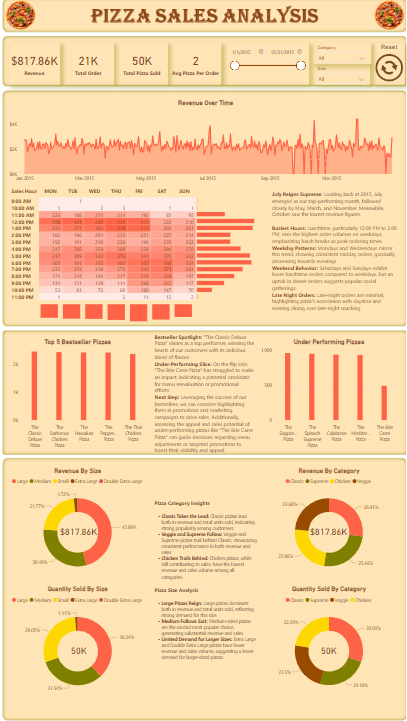

This screenshot's page, from the dashboard's own definition file:
{"tool":"powerbi","page":{"name":"Pizza Sales Analysis","canvas":[1080,1920],"ordinal":0},"visuals":[{"type":"pivotTable","fields":{"Values":["Count(pizza_place_sales.order_id)"],"Rows":["pizza_place_sales.sale_hour"],"Columns":["pizza_place_sales.day_name"]},"box":[21,490,505,313],"z":0},{"type":"areaChart","title":"Revenue Over Time","fields":{"Category":["pizza_place_sales.date.Variation.Date Hierarchy.Year","pizza_place_sales.date.Variation.Date Hierarchy.Quarter","pizza_place_sales.date.Variation.Date Hierarchy.Month","pizza_place_sales.date.Variation.Date Hierarchy.Day"],"Y":["Measures (2).Revenue"]},"box":[21.2,262.5,1043.8,227.5],"z":1000},{"type":"columnChart","title":"Top 5 Bestseller Pizzas","fields":{"Category":["pizza_place_sales.name"],"Y":["Measures (2).Total Pizza Sold"]},"box":[20.7,890.7,370,300],"z":2000},{"type":"columnChart","title":"Under Performing Pizzas","fields":{"Category":["pizza_place_sales.name"],"Y":["Measures (2).Total Pizza Sold"]},"box":[682,890.7,370,300],"z":3000},{"type":"donutChart","title":"Revenue By Size","fields":{"Category":["pizza_place_sales.size"],"Y":["Measures (2).Revenue"]},"box":[20.7,1230.7,370,300],"z":4000},{"type":"donutChart","title":"Revenue By Category","fields":{"Category":["pizza_place_sales.category"],"Y":["Measures (2).Revenue"]},"box":[682,1230.7,370,300],"z":5000},{"type":"donutChart","title":"Quantity Sold By Size","fields":{"Category":["pizza_place_sales.size"],"Y":["Measures (2).Total Pizza Sold"]},"box":[21.2,1543.8,370,300],"z":6000},{"type":"donutChart","title":"Quantity Sold By Category","fields":{"Category":["pizza_place_sales.category"],"Y":["Measures (2).Total Pizza Sold"]},"box":[682.5,1543.8,370,300],"z":7000},{"type":"card","fields":{"Values":["Measures (2).Revenue"]},"box":[21.6,115.5,135.1,111.3],"z":8000},{"type":"card","fields":{"Values":["Measures (2).Total Pizza Sold"]},"box":[305.2,115.5,135.1,111.3],"z":9000},{"type":"card","fields":{"Values":["Measures (2).Total Order"]},"box":[163.9,115.5,135.1,111.3],"z":10000},{"type":"card","fields":{"Values":["Measures (2).Avg Pizza Per Order"]},"box":[447.4,115.5,135.1,111.3],"z":11000},{"type":"image","box":[983.5,115.5,81.4,111.3],"z":12000},{"type":"slicer","fields":{"Values":["pizza_place_sales.date"]},"box":[589.8,115.9,223.9,111.4],"z":13000},{"type":"slicer","fields":{"Values":["pizza_place_sales.category"]},"box":[822,115.4,152.7,56],"z":14000},{"type":"slicer","fields":{"Values":["pizza_place_sales.size"]},"box":[823.1,171.4,151.6,54.9],"z":15000},{"type":"textbox","box":[401,876.3,273.2,332],"z":16000},{"type":"textbox","box":[401,1312.4,280.4,469.1],"z":17000},{"type":"textbox","box":[712.2,501.1,340,358.9],"z":18000},{"type":"card","fields":{"Values":["Measures (2).Revenue"]},"box":[151.1,1386.4,111.4,33],"z":19000},{"type":"card","fields":{"Values":["Measures (2).Revenue"]},"box":[811.4,1386.4,111.4,33],"z":20000},{"type":"card","fields":{"Values":["Measures (2).Total Pizza Sold"]},"box":[151.1,1700,111.4,33],"z":21000},{"type":"card","fields":{"Values":["Measures (2).Total Pizza Sold"]},"box":[811.4,1700,111.4,33],"z":22000},{"type":"barChart","fields":{"Y":["Measures (2).Total Order"],"Category":["pizza_place_sales.sale_hour"]},"box":[514.8,509.1,189.8,286.4],"z":23000},{"type":"columnChart","fields":{"Y":["Measures (2).Total Order"],"Category":["pizza_place_sales.day_name"]},"box":[103,789,410,71],"z":24000}]}

Visuals, with their boxes in screenshot pixels (x1, y1, x2, y2), scaled from the page's 1080x1920 canvas onto the 407x721 screenshot:
pivotTable - Count(pizza_place_sales.order_id) x pizza_place_sales.sale_hour: [8, 184, 198, 302]
"Revenue Over Time" areaChart: [8, 99, 401, 184]
"Top 5 Bestseller Pizzas" columnChart: [8, 334, 147, 447]
"Under Performing Pizzas" columnChart: [257, 334, 396, 447]
"Revenue By Size" donutChart: [8, 462, 147, 575]
"Revenue By Category" donutChart: [257, 462, 396, 575]
"Quantity Sold By Size" donutChart: [8, 580, 147, 692]
"Quantity Sold By Category" donutChart: [257, 580, 397, 692]
card - Measures (2).Revenue: [8, 43, 59, 85]
card - Measures (2).Total Pizza Sold: [115, 43, 166, 85]
card - Measures (2).Total Order: [62, 43, 113, 85]
card - Measures (2).Avg Pizza Per Order: [169, 43, 220, 85]
image: [371, 43, 401, 85]
slicer - pizza_place_sales.date: [222, 44, 307, 85]
slicer - pizza_place_sales.category: [310, 43, 367, 64]
slicer - pizza_place_sales.size: [310, 64, 367, 85]
textbox: [151, 329, 254, 454]
textbox: [151, 493, 257, 669]
textbox: [268, 188, 397, 323]
card - Measures (2).Revenue: [57, 521, 99, 533]
card - Measures (2).Revenue: [306, 521, 348, 533]
card - Measures (2).Total Pizza Sold: [57, 638, 99, 651]
card - Measures (2).Total Pizza Sold: [306, 638, 348, 651]
barChart - Measures (2).Total Order x pizza_place_sales.sale_hour: [194, 191, 266, 299]
columnChart - Measures (2).Total Order x pizza_place_sales.day_name: [39, 296, 193, 323]
